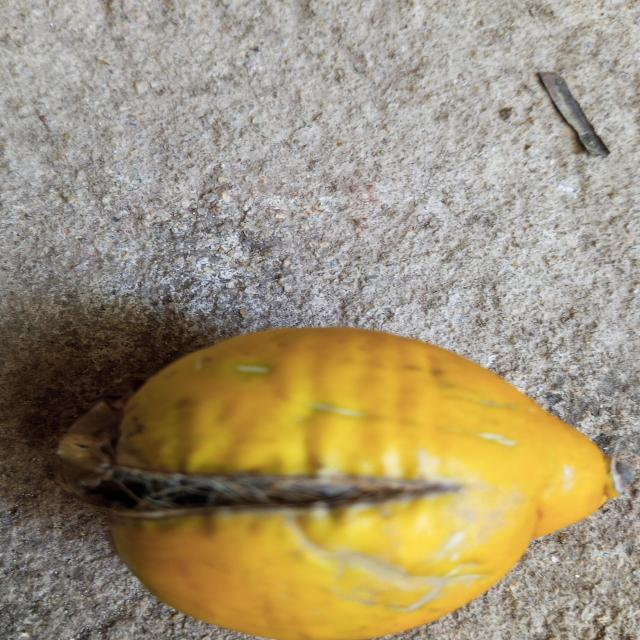damaged: (55, 328, 622, 640)
